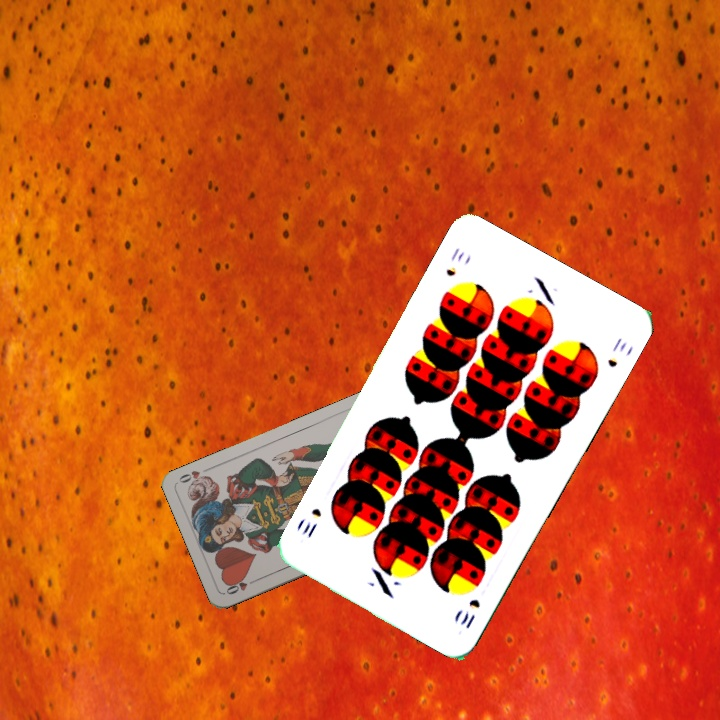HO: (222, 574, 260, 597)
S10: (456, 594, 483, 631), (442, 243, 467, 279)
